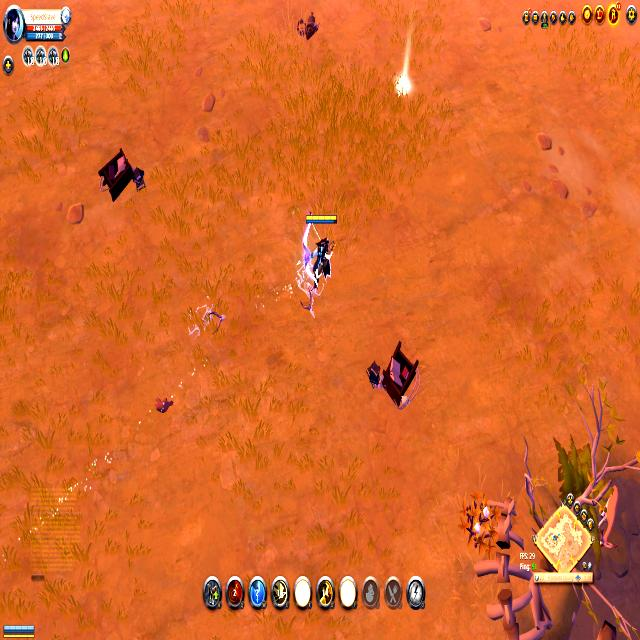hide: (456, 480, 496, 555)
ore: (593, 484, 619, 551)
red: (304, 210, 338, 283), (1, 620, 38, 638)
stone: (396, 77, 412, 99)
